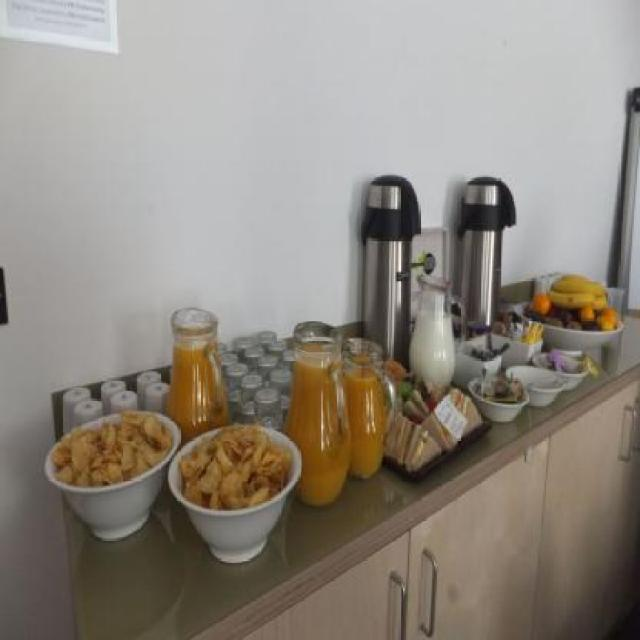Juice: (286, 328, 352, 524), (163, 343, 229, 446), (343, 358, 389, 476), (410, 307, 458, 391)
